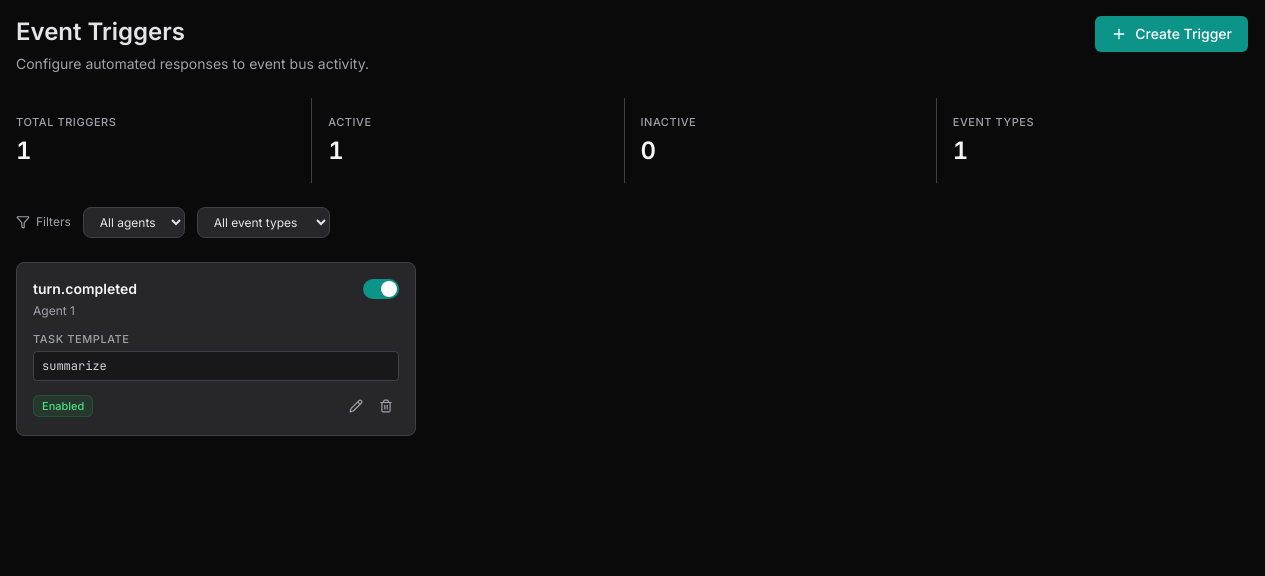
Test case: TriggersPage › rolls back optimistic delete and re-shows the row when delete fails
expect the number of elements with test id "trigger-card" is 1: met, box [16,262,416,436]
Click the button named "Delete trigger" at (386, 406), box [373,393,399,419]
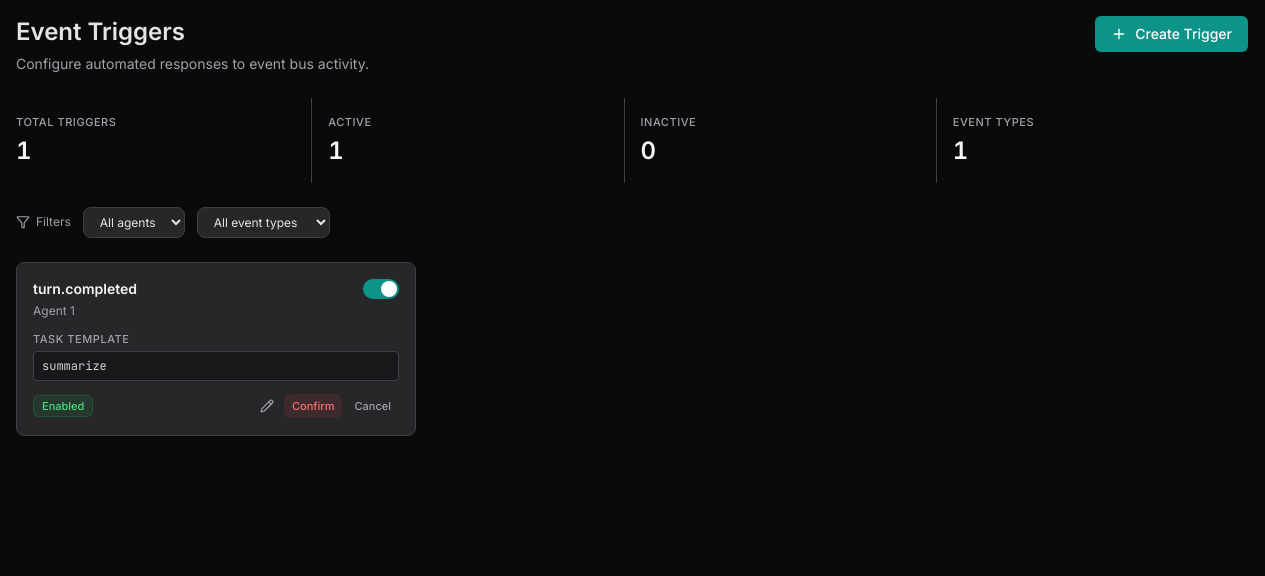
expect the button "Confirm" is shown: met
Click the button "Confirm" at (313, 406), box [284,394,342,418]
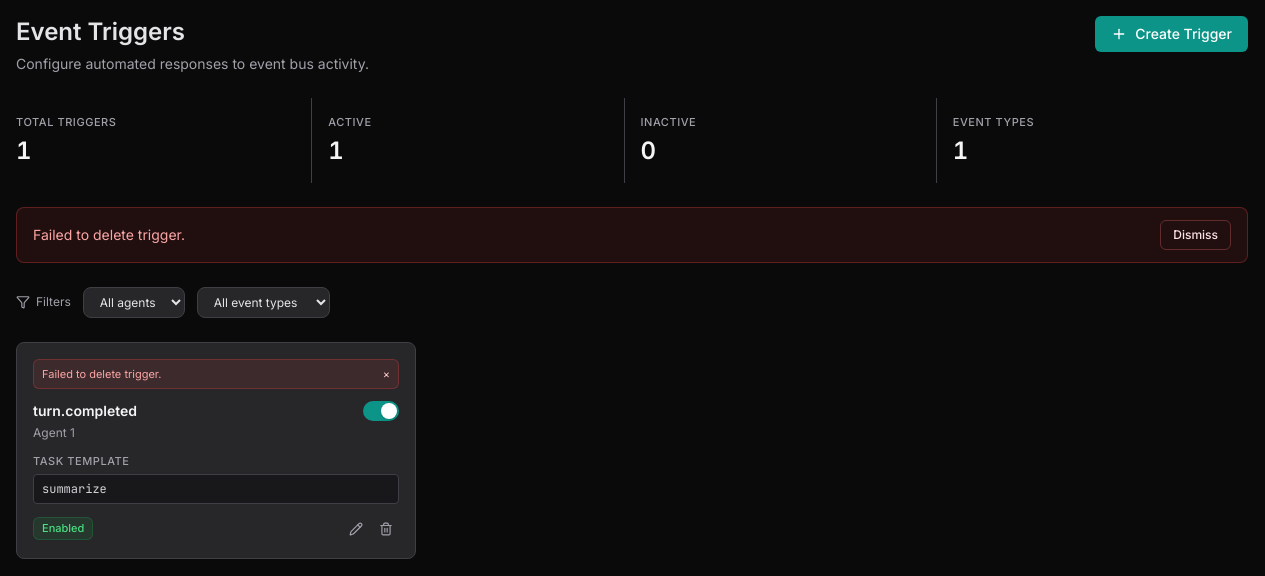
expect the number of elements with test id "trigger-card" is 1: met, box [16,342,416,558]
expect the message "Failed to delete trigger. ×" is shown: met, box [33,358,399,389]
expect the message with test id "trigger-row-error" shows "Failed to delete trigger.": met, box [42,366,161,380]
